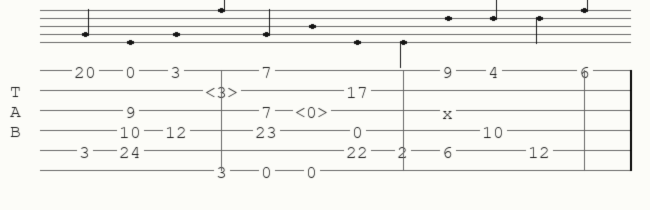0: (125, 63, 140, 78), (261, 163, 276, 178), (306, 163, 321, 178), (352, 123, 367, 138)
10: (119, 123, 145, 138), (482, 123, 508, 138)
12: (165, 123, 191, 138), (528, 143, 554, 158)
17: (346, 83, 372, 98)
2: (397, 143, 412, 158)
20: (74, 63, 100, 78)
22: (346, 143, 372, 158)
23: (255, 123, 281, 138)
24: (119, 143, 145, 158)
3: (79, 143, 94, 158), (170, 63, 185, 78), (216, 163, 231, 178)
4: (488, 63, 503, 78)
6: (442, 143, 457, 158), (579, 63, 594, 78)
7: (261, 63, 276, 78), (261, 103, 276, 118)
9: (125, 103, 140, 118), (442, 63, 457, 78)
harmonic: (205, 83, 242, 98), (295, 103, 332, 118)
x: (442, 104, 457, 116)
